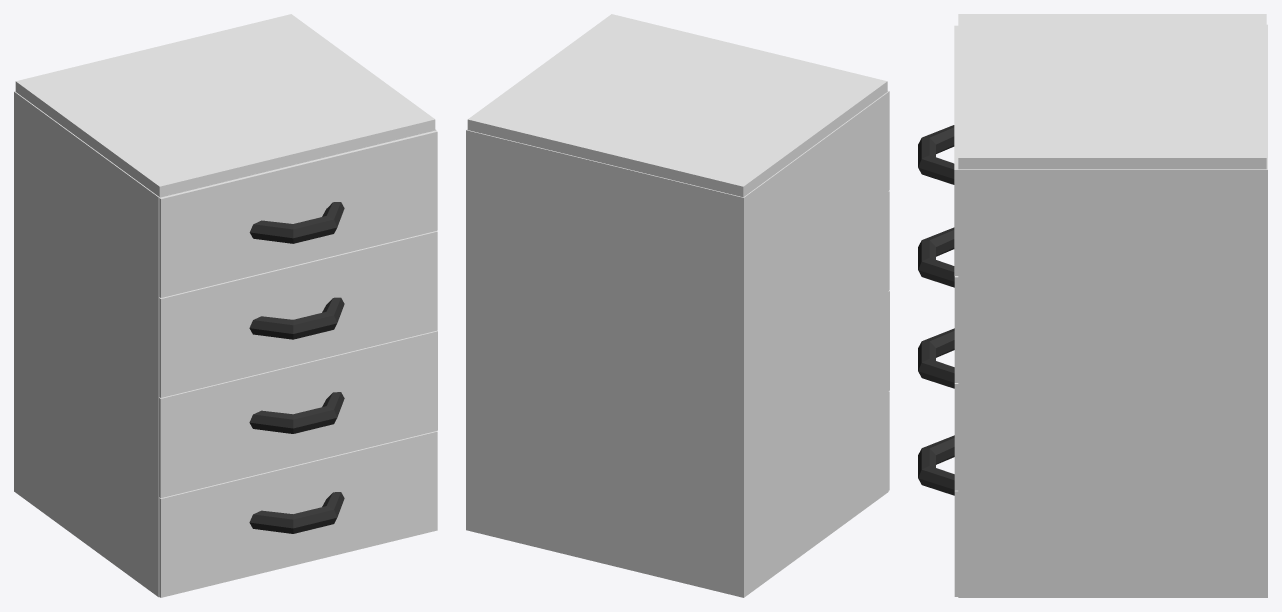
The model's file is gaveteirobiblioteca 1.fbx.
The picture shows the model from 3 angles, left to right: view 1: azimuth 30°, elevation 25°; view 2: azimuth 150°, elevation 25°; view 3: azimuth 270°, elevation 25°; orthographic projection. The views are drawn at different scales.
Visible parts, largest first — view 1: GAVETEIRO, ALÇA; view 2: GAVETEIRO; view 3: GAVETEIRO, ALÇA.
Part boxes in pixels (x1,y1,x2,y2): GAVETEIRO: (14, 14, 437, 597); ALÇA: (249, 202, 344, 533); GAVETEIRO: (466, 14, 889, 597); GAVETEIRO: (954, 14, 1267, 597); ALÇA: (918, 125, 954, 495).
Bounding box in the file's own units: 0.584 × 0.8249 × 0.595.
2 materials, 1 textured.
